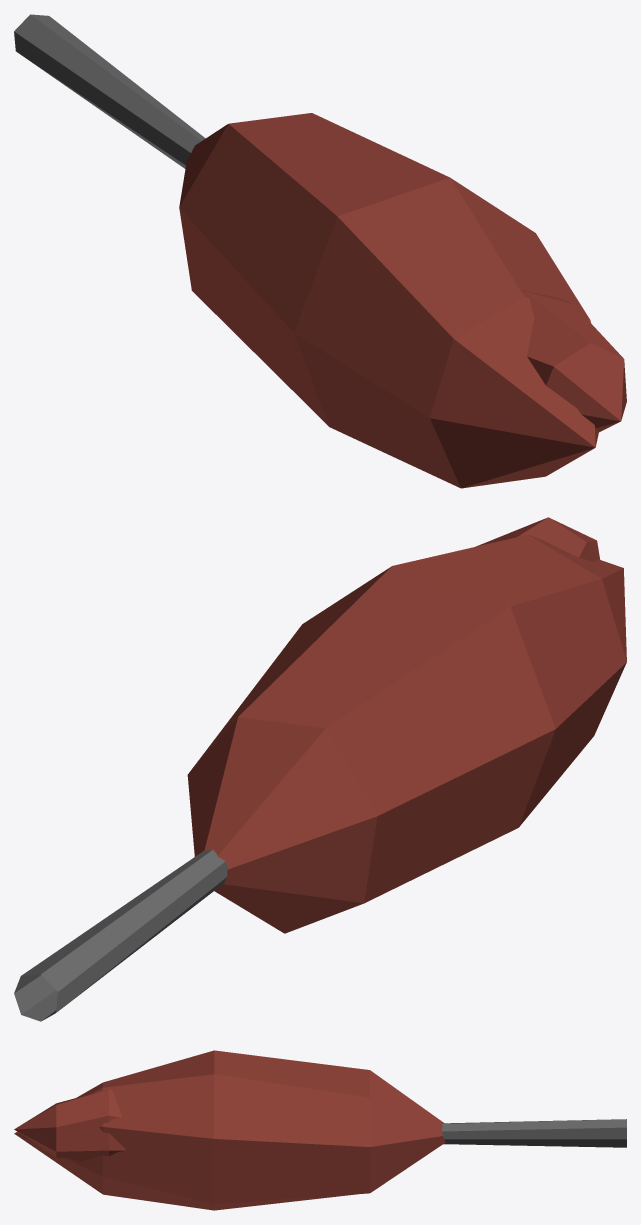
Rendered from grown.glb.
3 views of the same model, one above another, from view 1: azimuth 30°, elevation 25°; view 2: azimuth 150°, elevation 25°; view 3: azimuth 270°, elevation 25° (orthographic). The views are drawn at different scales.
Parts seen in each view (by area): view 1: tree_01_grown; view 2: tree_01_grown; view 3: tree_01_grown.
Part boxes in pixels (bbox=[...]): tree_01_grown: bbox=[14, 14, 626, 488]; tree_01_grown: bbox=[14, 517, 626, 1021]; tree_01_grown: bbox=[14, 1050, 626, 1210].
Bounding box in the file's own units: 8.03 × 8.21 × 32.25.
